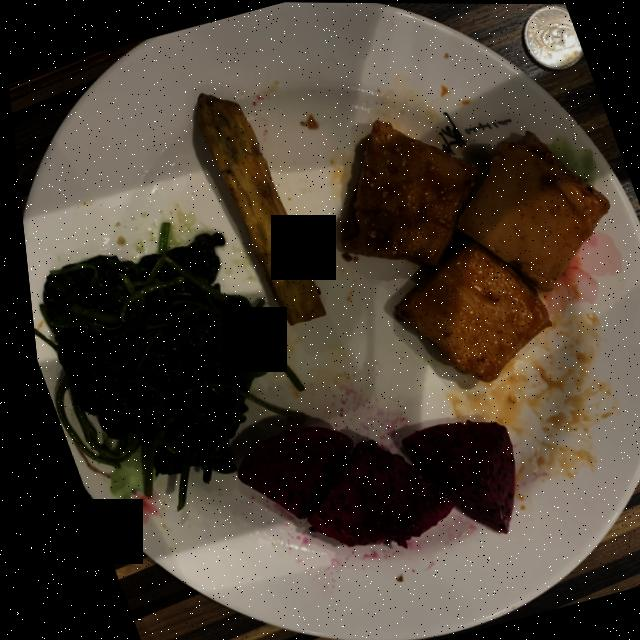coin: (521, 3, 582, 67)
creamy tofu: (335, 119, 604, 380)
sweet potato leaves: (32, 231, 292, 505)
